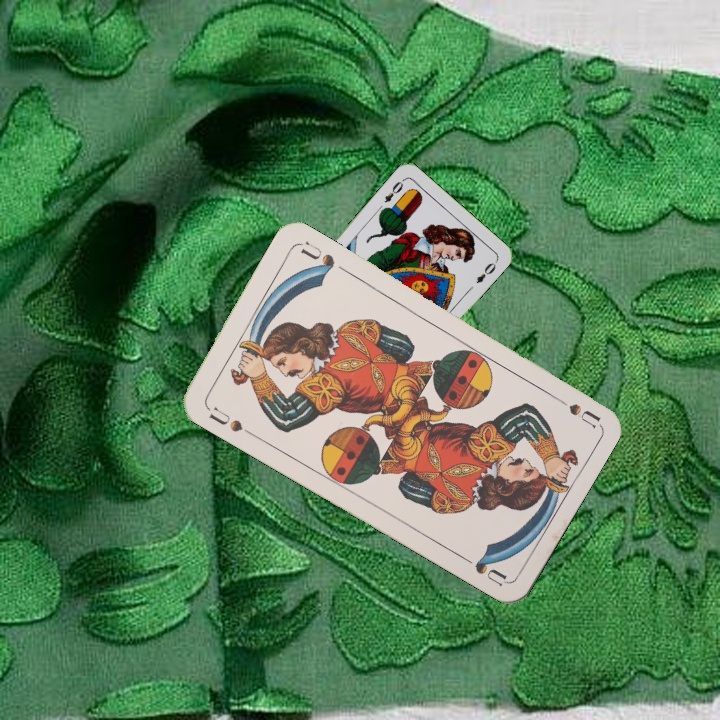EO: (380, 175, 407, 205)
SU: (546, 389, 601, 430), (204, 402, 256, 438)
